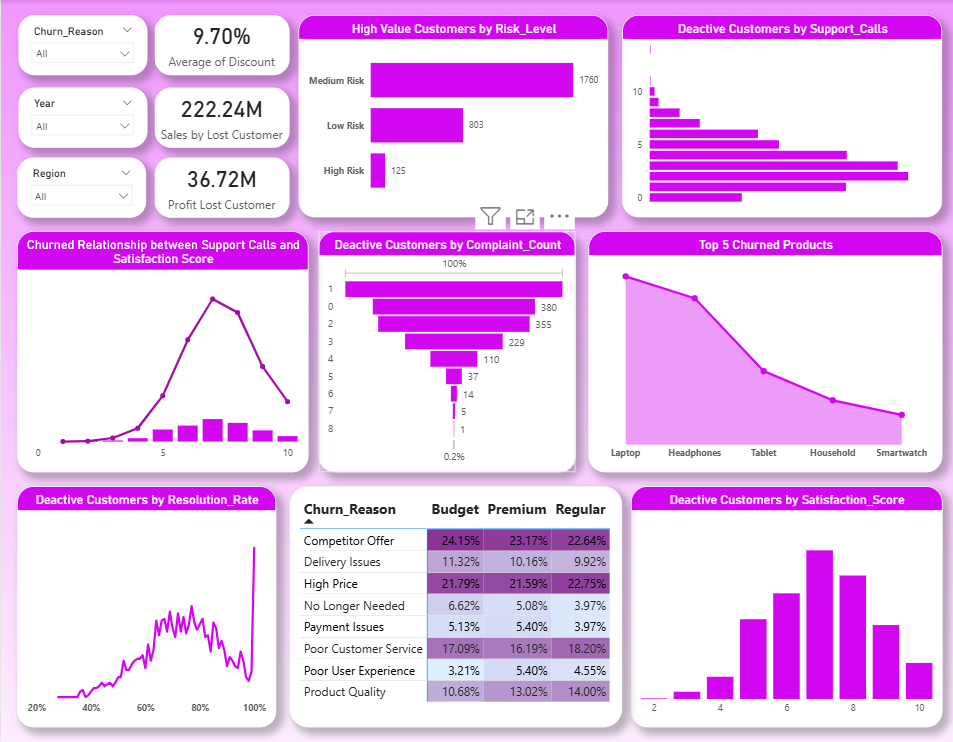

The dashboard page shown, as its layout file describes it:
{"tool":"powerbi","page":{"name":"Customer Analysis","canvas":[1280,1000],"ordinal":1},"visuals":[{"type":"barChart","fields":{"Y":["Customer_Master.High Value Customers"],"Category":["Customer_Master.Risk_Level"]},"box":[398.8,20.1,415.6,271.4],"z":0},{"type":"columnChart","fields":{"Category":["Customer_Master.Satisfaction_Score"],"Y":["Customer_Master.Deactive Customers"]},"box":[844.5,651.8,417.2,323.4],"z":1000},{"type":"clusteredBarChart","fields":{"Category":["Customer_Interactions.Support_Calls"],"Y":["Customer_Master.Deactive Customers"]},"box":[832.8,20.1,429,271.4],"z":2000},{"type":"lineChart","fields":{"Category":["Customer_Interactions.Resolution_Rate"],"Y":["Customer_Master.Deactive Customers"]},"box":[21.8,651.8,346.9,323.4],"z":3000},{"type":"funnel","fields":{"Category":["Customer_Interactions.Complaint_Count"],"Y":["Customer_Master.Deactive Customers"]},"box":[425.6,310,345.2,323.4],"z":4000},{"type":"areaChart","title":"Top 5 Churned Products","fields":{"Category":["Sales_Data.Product_Name"],"Y":["Sales_Data.Churned Customers by Product"]},"box":[787.5,310,474.2,323.4],"z":5000},{"type":"lineStackedColumnComboChart","title":"Churned Relationship between Support Calls and Satisfaction Score","fields":{"Y":["Customer_Master.Deactive Customers"],"Category":["Customer_Interactions.Satisfaction_Score"],"Y2":["CountNonNull(Customer_Interactions.Support_Calls)"]},"box":[21.8,310,390.4,323.4],"z":6000},{"type":"slicer","fields":{"Values":["Customer_Master.Churn_Reason"]},"box":[23.5,20.1,172.6,80.4],"z":7000},{"type":"slicer","fields":{"Values":["Customer_Master.Last_Purchase_Date.Variation.Date Hierarchy.Year"]},"box":[23.5,117.3,172.6,80.4],"z":8000},{"type":"card","fields":{"Values":["Avg(Sales_Data.Discount)"]},"box":[206.1,20.1,181,80.4],"z":9000},{"type":"pivotTable","fields":{"Rows":["Customer_Master.Churn_Reason"],"Values":["Customer_Master.Deactive Rate"],"Columns":["Customer_Master.Customer_Segment"]},"box":[387.1,651.8,445.7,323.4],"z":10000},{"type":"slicer","fields":{"Values":["Customer_Master.Region"]},"box":[21.8,211.1,172.6,80.4],"z":11000},{"type":"card","fields":{"Values":["Sales_Data.Sales affecting by Lost Customer"]},"box":[206.1,117.3,181,80.4],"z":11001},{"type":"card","fields":{"Values":["Sales_Data.Profit affecting by Lost Customer"]},"box":[206.1,211.1,181,80.4],"z":11002}]}

Visuals, with their boxes in screenshot pixels (x1, y1, x2, y2), scaled from the page's 1280x1000 canvas onto the 953x742 screenshot:
barChart - Customer_Master.High Value Customers x Customer_Master.Risk_Level: (297, 15, 606, 216)
columnChart - Customer_Master.Satisfaction_Score x Customer_Master.Deactive Customers: (629, 484, 939, 724)
clusteredBarChart - Customer_Interactions.Support_Calls x Customer_Master.Deactive Customers: (620, 15, 939, 216)
lineChart - Customer_Interactions.Resolution_Rate x Customer_Master.Deactive Customers: (16, 484, 275, 724)
funnel - Customer_Interactions.Complaint_Count x Customer_Master.Deactive Customers: (317, 230, 574, 470)
"Top 5 Churned Products" areaChart: (586, 230, 939, 470)
"Churned Relationship between Support Calls and Satisfaction Score" lineStackedColumnComboChart: (16, 230, 307, 470)
slicer - Customer_Master.Churn_Reason: (17, 15, 146, 75)
slicer - Customer_Master.Last_Purchase_Date.Variation.Date Hierarchy.Year: (17, 87, 146, 147)
card - Avg(Sales_Data.Discount): (153, 15, 288, 75)
pivotTable - Customer_Master.Churn_Reason x Customer_Master.Deactive Rate: (288, 484, 620, 724)
slicer - Customer_Master.Region: (16, 157, 145, 216)
card - Sales_Data.Sales affecting by Lost Customer: (153, 87, 288, 147)
card - Sales_Data.Profit affecting by Lost Customer: (153, 157, 288, 216)
